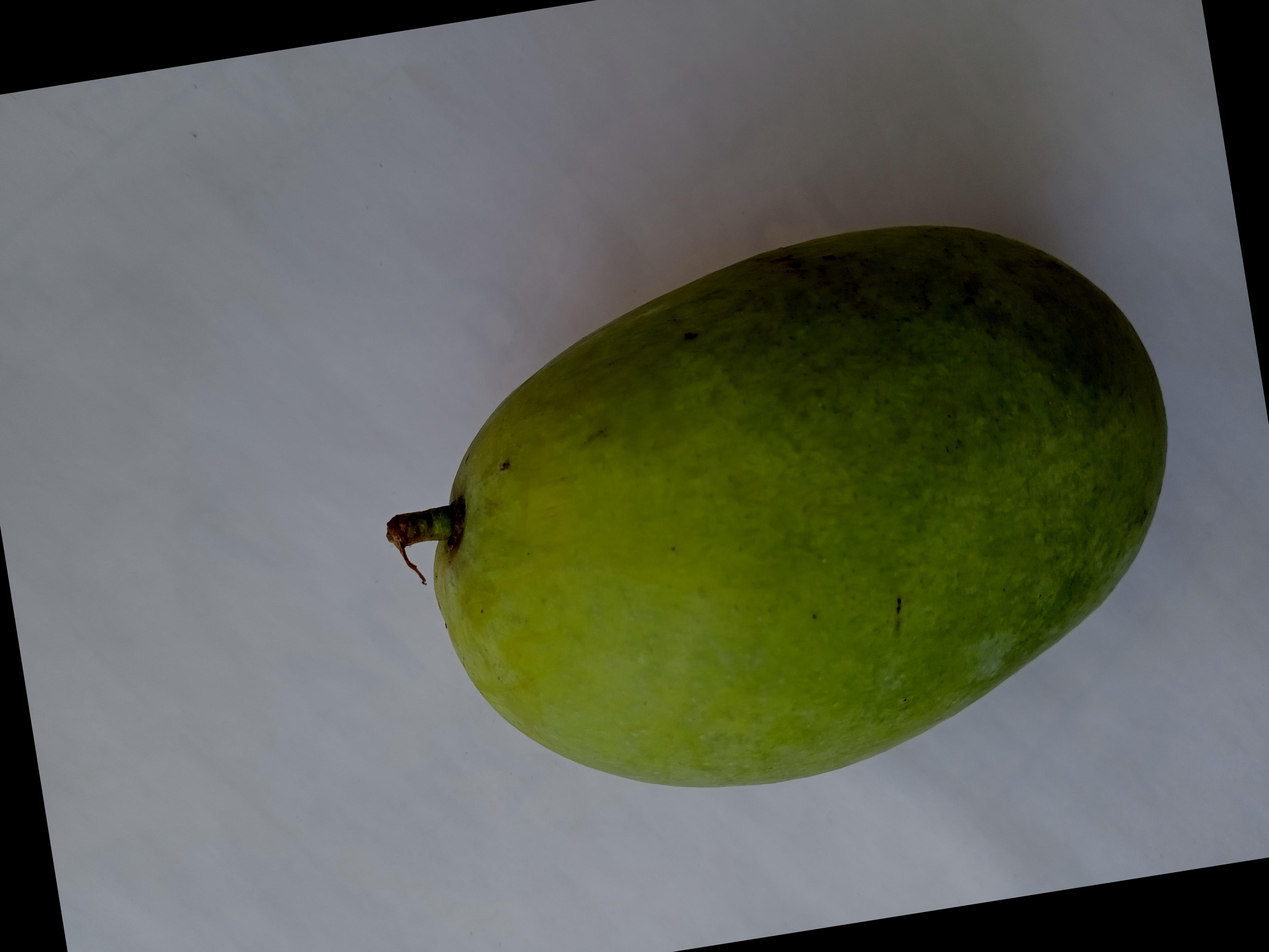Mango Unripe: (205, 280, 1163, 952)
